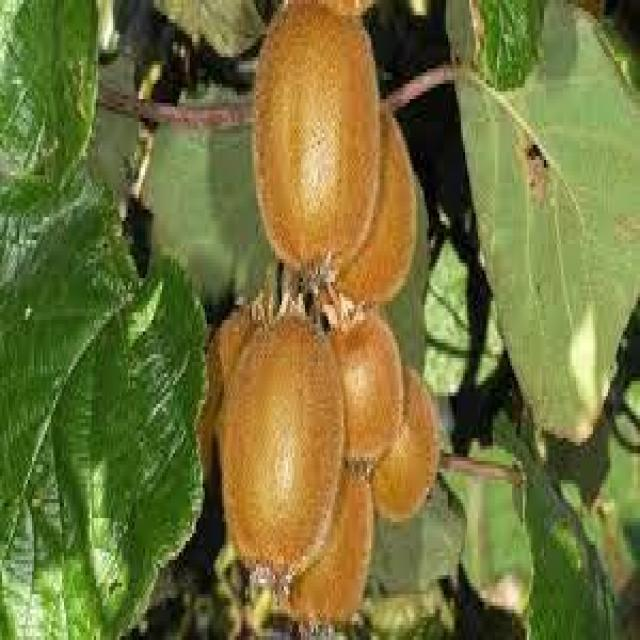kiwi: (249, 1, 390, 287), (218, 313, 351, 599), (329, 93, 432, 318), (282, 458, 383, 637), (368, 352, 453, 531), (325, 310, 415, 474)
